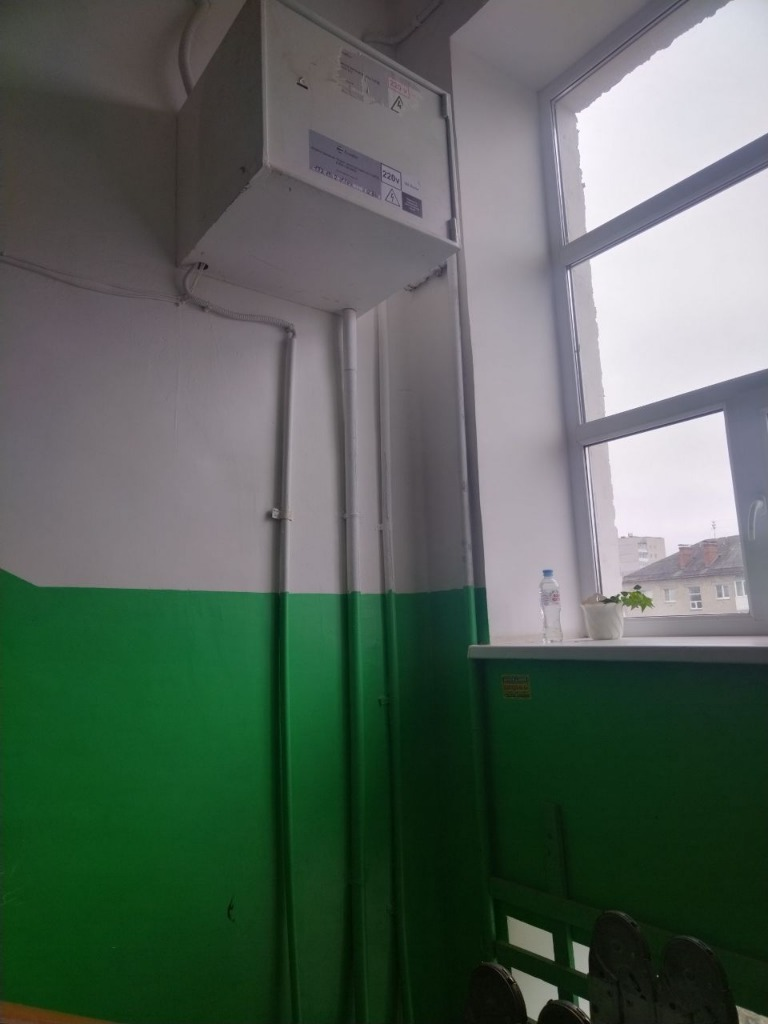shta-9m: (172, 2, 468, 326)
